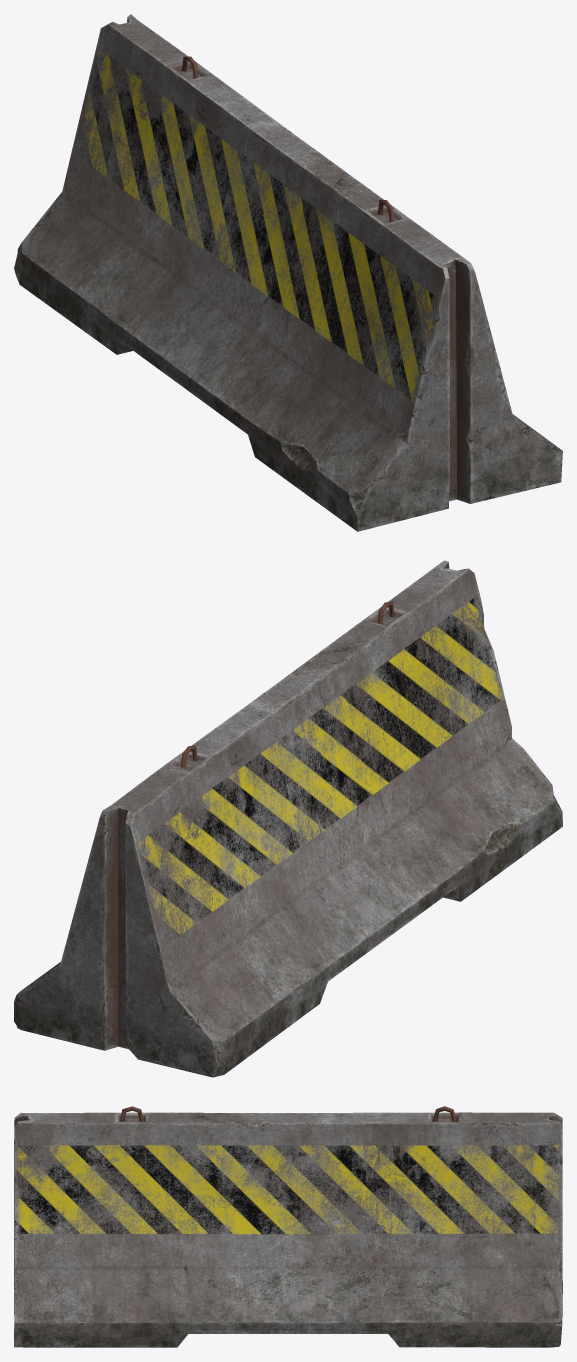
File: concrete_fence.glb
3 renders of one model, top to bottom at view 1: azimuth 30°, elevation 25°; view 2: azimuth 150°, elevation 25°; view 3: azimuth 270°, elevation 25°, orthographic. The views are drawn at different scales.
Visible parts, largest first — view 1: LP1; view 2: LP1; view 3: LP1.
Boxes of the visible parts, x1,y1,x2,y2 form: LP1: (14,14,562,531); LP1: (14,560,562,1077); LP1: (14,1106,562,1347).
Bounding box in the file's own units: 59.81 × 69.87 × 173.
1 material, 1 textured.
